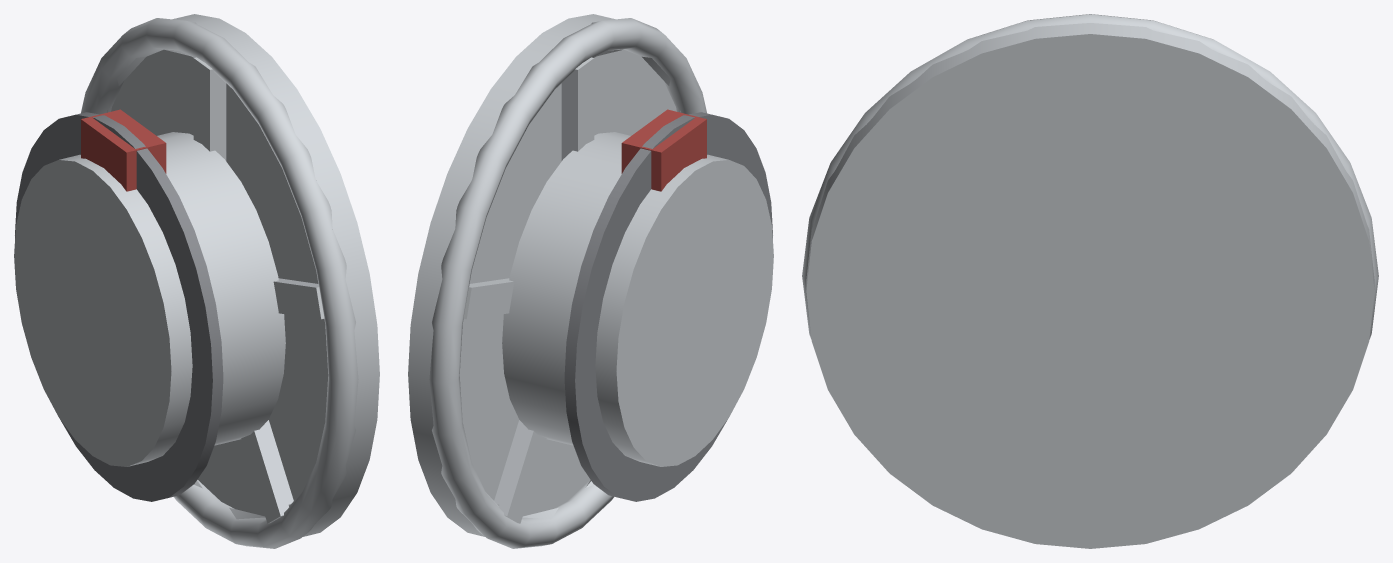
File: wh-deep.glb
3 views of the same model, side by side, from view 1: azimuth 30°, elevation 25°; view 2: azimuth 150°, elevation 25°; view 3: azimuth 270°, elevation 25° (orthographic). The views are drawn at different scales.
Parts seen in each view (by area): view 1: Chrome.001, Chrome, Chrome.002, Rotor, Caliper, Chrome.007, Chrome.005, Chrome.006, ChromeLOD.004, ChromeLOD, ChromeLOD.002; view 2: Chrome.001, Chrome, Chrome.002, Rotor, Caliper, Chrome.008, Chrome.005, Chrome.009, ChromeLOD.005, ChromeLOD, ChromeLOD.002; view 3: Chrome, Chrome.002.
Part boxes in pixels (box(x1,y1,x2,y2)): Chrome.001: box(14, 132, 285, 466); Chrome: box(111, 14, 379, 536); Chrome.002: box(81, 18, 358, 548); Rotor: box(15, 112, 223, 501); Caliper: box(81, 109, 166, 191); Chrome.007: box(241, 425, 288, 523); Chrome.005: box(193, 57, 220, 154); Chrome.006: box(273, 278, 324, 319); ChromeLOD.004: box(264, 420, 293, 505); ChromeLOD: box(107, 49, 302, 519); ChromeLOD.002: box(220, 78, 226, 160); Chrome.001: box(502, 132, 773, 466); Chrome: box(408, 14, 676, 536); Chrome.002: box(429, 18, 706, 548); Rotor: box(564, 112, 772, 501); Caliper: box(621, 109, 706, 191); Chrome.008: box(499, 425, 546, 523); Chrome.005: box(567, 57, 594, 154); Chrome.009: box(463, 278, 514, 319); ChromeLOD.005: box(494, 420, 523, 505); ChromeLOD: box(485, 49, 680, 519); ChromeLOD.002: box(561, 78, 567, 160); Chrome: box(806, 23, 1374, 548); Chrome.002: box(802, 14, 1378, 339).
Size of the model in its own units: 0.174 by 0.536 by 0.536.
